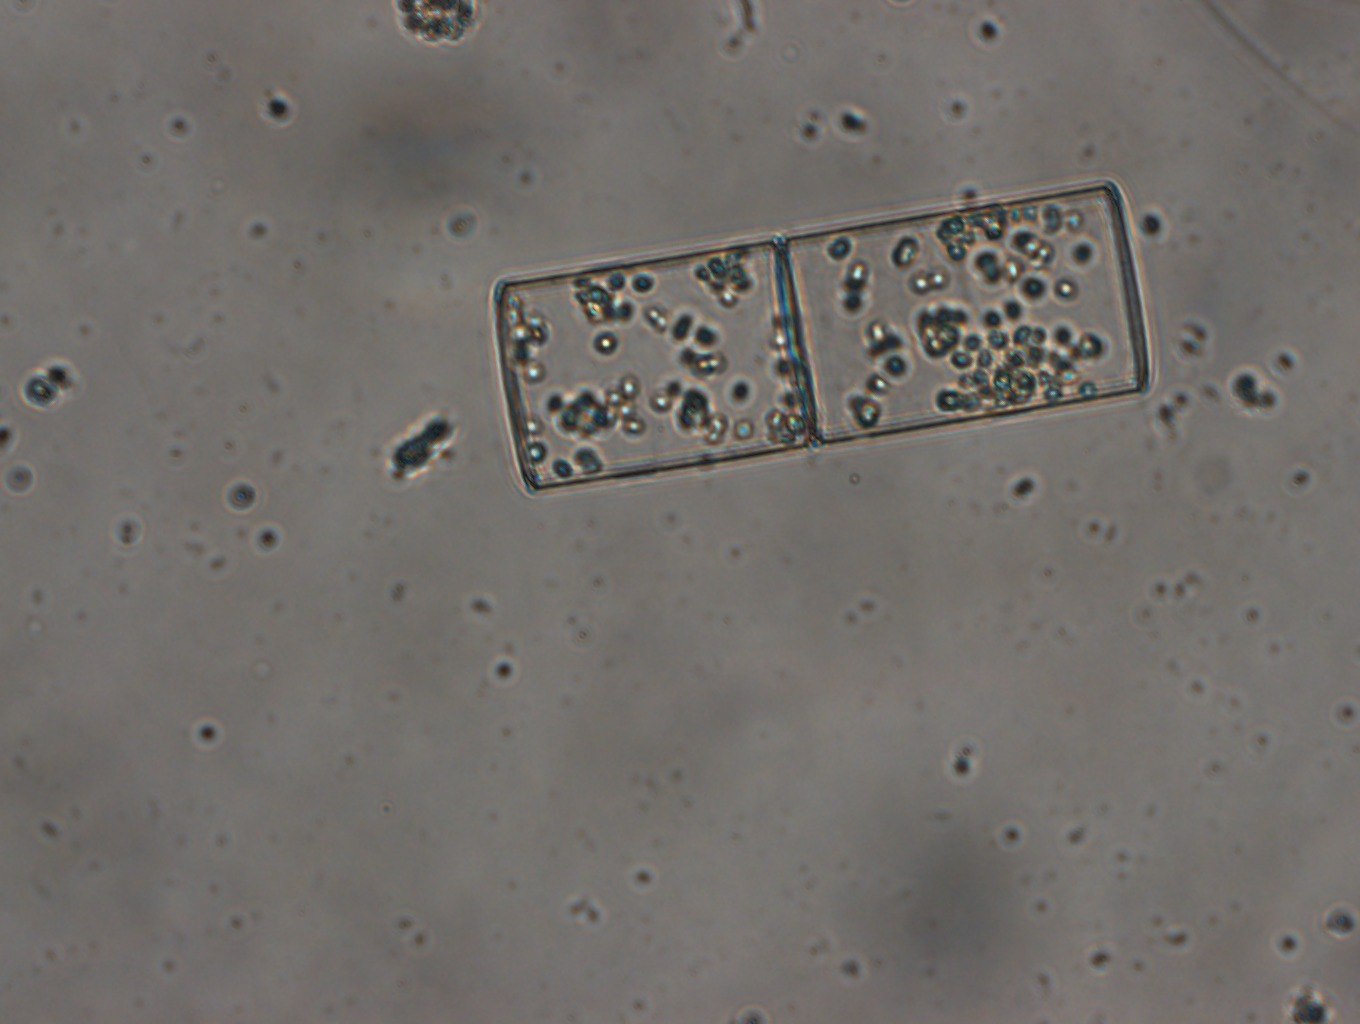guinardia flaccida: (491, 174, 1156, 499)
